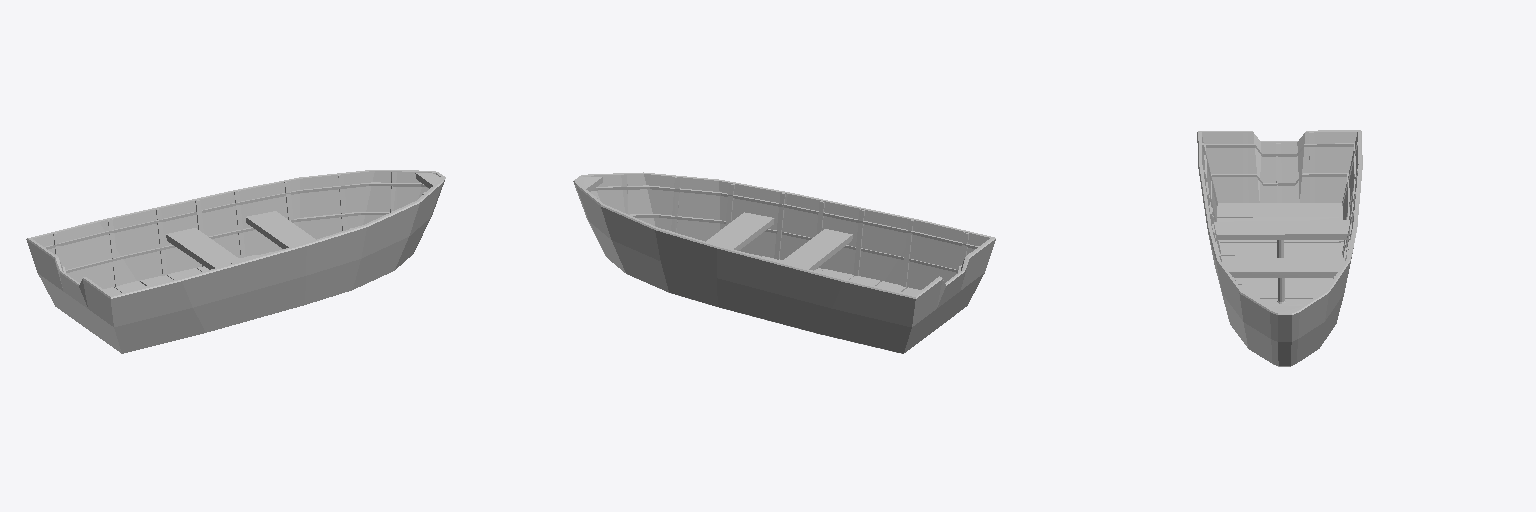
The model's file is Bote.obj.
The picture shows the model from 3 angles: view 1: azimuth 30°, elevation 25°; view 2: azimuth 150°, elevation 25°; view 3: azimuth 270°, elevation 25°; orthographic projection.
Parts seen in each view (by area): view 1: SM_Wooden_Boat_1_JFG_Cube.280; view 2: SM_Wooden_Boat_1_JFG_Cube.280; view 3: SM_Wooden_Boat_1_JFG_Cube.280.
Part boxes in pixels (left/top/right/bottom): SM_Wooden_Boat_1_JFG_Cube.280: left=26, top=170, right=445, bottom=353; SM_Wooden_Boat_1_JFG_Cube.280: left=573, top=172, right=995, bottom=353; SM_Wooden_Boat_1_JFG_Cube.280: left=1197, top=130, right=1362, bottom=366.
Bounding box in the file's own units: 10.64 × 1.83 × 4.05.